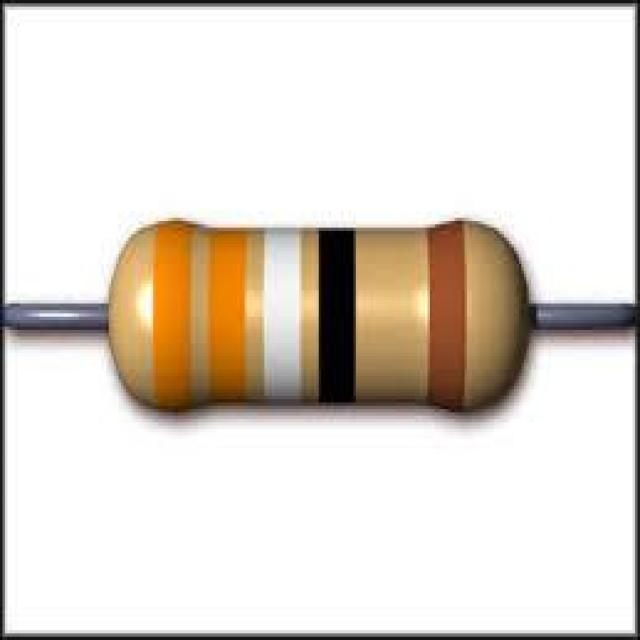Resistor: (109, 221, 529, 409)
black: (319, 231, 355, 402)
brown: (428, 222, 464, 409)
orange: (154, 222, 190, 409), (208, 231, 247, 402)
white: (262, 228, 301, 402)
